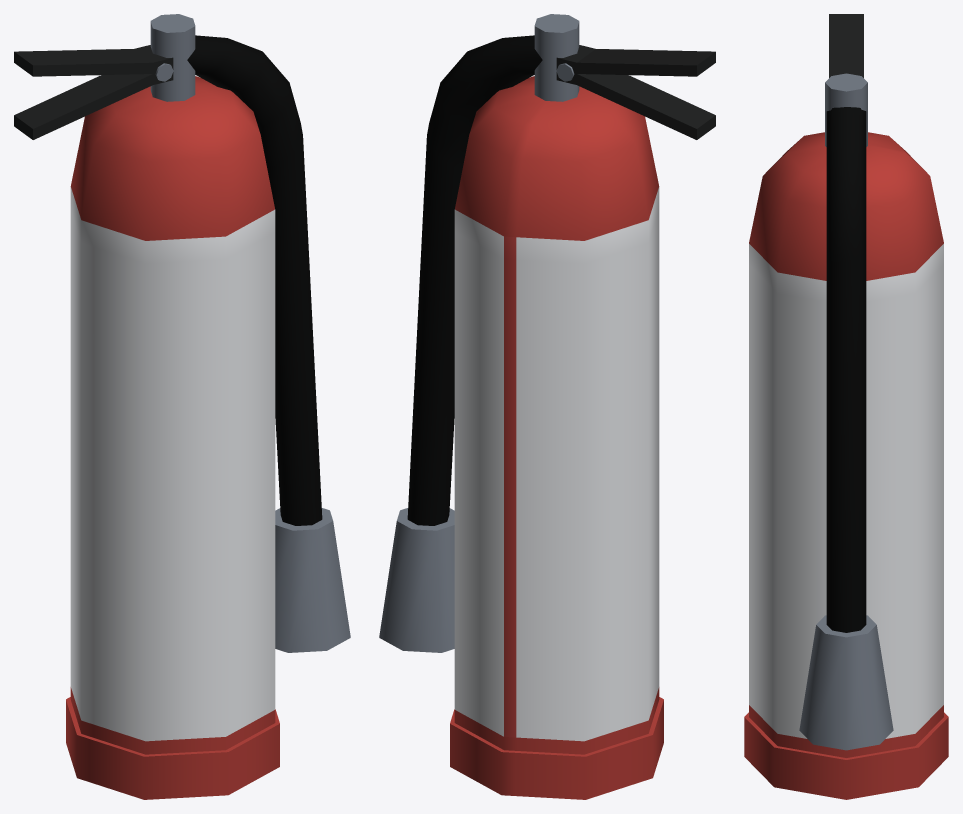
File: ppe_fire_extinguisher_clamp.glb
3 views of the same model, side by side, from view 1: azimuth 30°, elevation 25°; view 2: azimuth 150°, elevation 25°; view 3: azimuth 270°, elevation 25° (orthographic). The views are drawn at different scales.
Parts seen in each view (by area): view 1: ppe_fire_extinguisher, ppe_fire_extinguisher_clamp; view 2: ppe_fire_extinguisher, ppe_fire_extinguisher_clamp; view 3: ppe_fire_extinguisher, ppe_fire_extinguisher_clamp.
Boxes of the visible parts, x1,y1,x2,y2 form: ppe_fire_extinguisher: (66,14,350,799); ppe_fire_extinguisher_clamp: (14,45,173,139); ppe_fire_extinguisher: (379,14,663,799); ppe_fire_extinguisher_clamp: (556,45,715,139); ppe_fire_extinguisher: (744,73,948,799); ppe_fire_extinguisher_clamp: (829,14,863,77).
Bounding box in the file's own units: 27.6 × 59.98 × 16.45.
Materials: 1 (1 with a texture image).
